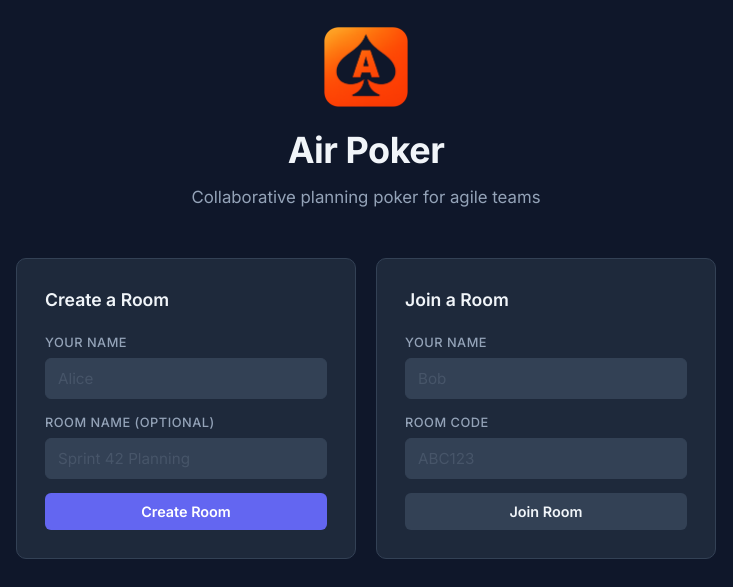
Home Page › should show error when joining room without name
Click the button "Join Room". click: click(546, 512)
box: x1=405 y1=494 x2=687 y2=530
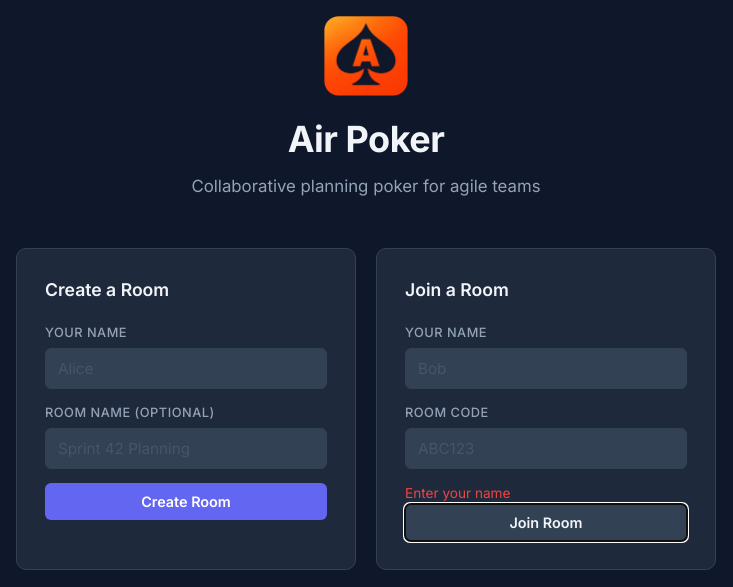
Now the text "Enter your name" is shown, box x1=405 y1=485 x2=510 y2=501
